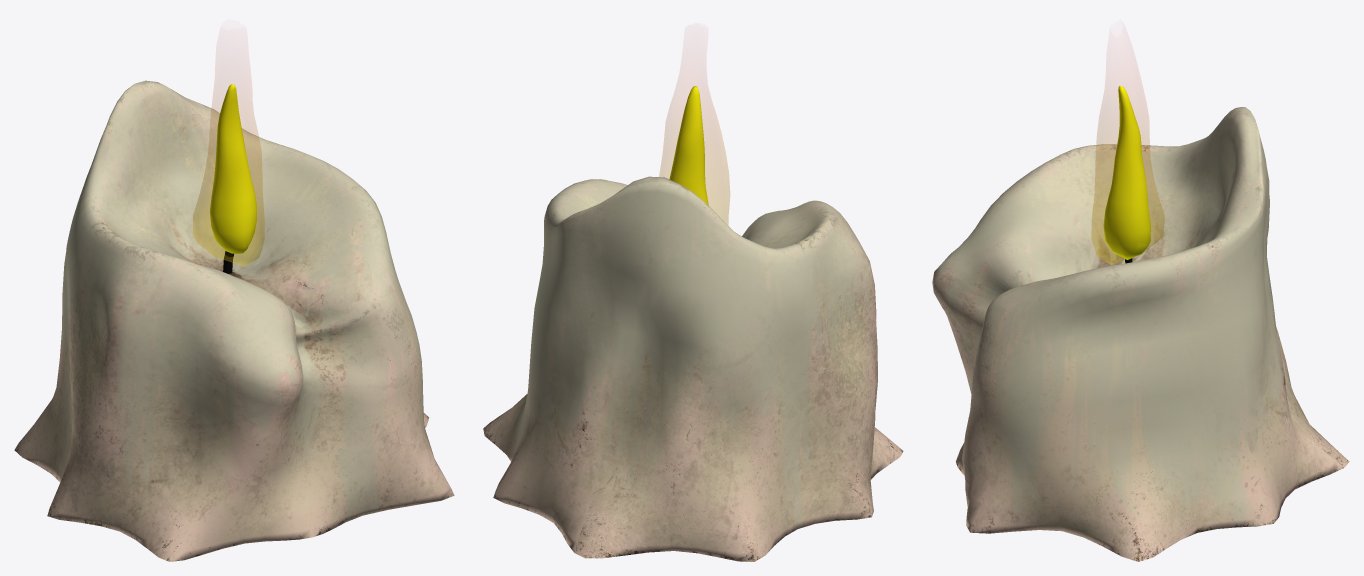
File: PROP-0001.obj
3 renders of one model, left to right at view 1: azimuth 30°, elevation 25°; view 2: azimuth 150°, elevation 25°; view 3: azimuth 270°, elevation 25°, orthographic. The views are drawn at different scales.
Visible parts, largest first — view 1: Candle; view 2: Candle; view 3: Candle.
Part boxes in pixels (box(x1,y1,x2,y2)): Candle: box(14, 80, 454, 561); Candle: box(483, 86, 903, 561); Candle: box(932, 86, 1349, 561).
Size of the model in its own units: 8.68 by 9.89 by 8.33.
